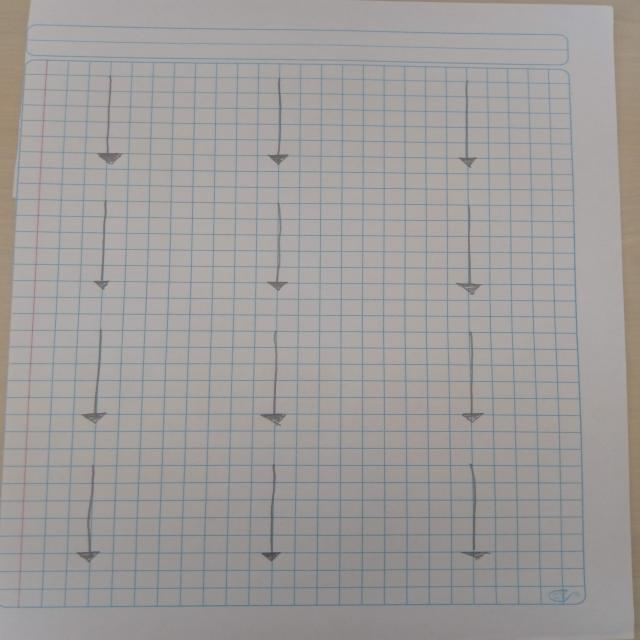arrow_line_down: (90, 76, 138, 172), (255, 325, 297, 431), (451, 464, 495, 560), (85, 201, 124, 297), (252, 461, 289, 561), (259, 199, 297, 295), (453, 330, 489, 430), (74, 463, 107, 564), (81, 326, 111, 428), (263, 81, 297, 166), (451, 84, 481, 174), (455, 206, 482, 296)
